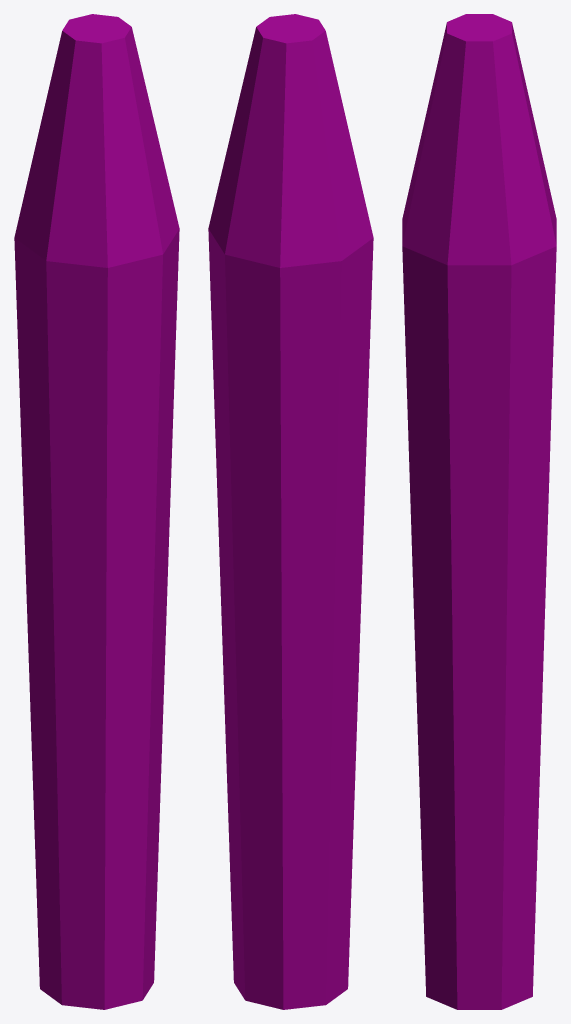
File: Collider_Big_Cactus_003.fbx
The picture shows the model from 3 angles, left to right: view 1: azimuth 30°, elevation 25°; view 2: azimuth 150°, elevation 25°; view 3: azimuth 270°, elevation 25°; orthographic projection.
Parts seen in each view (by area): view 1: Collider_Big_Cactus_003; view 2: Collider_Big_Cactus_003; view 3: Collider_Big_Cactus_003.
Part boxes in pixels (x1,y1,x2,y2): Collider_Big_Cactus_003: (14,14,179,1009); Collider_Big_Cactus_003: (208,14,373,1009); Collider_Big_Cactus_003: (402,14,556,1009).
Bounding box in the file's own units: 0.4343 × 2.98 × 0.4343.
